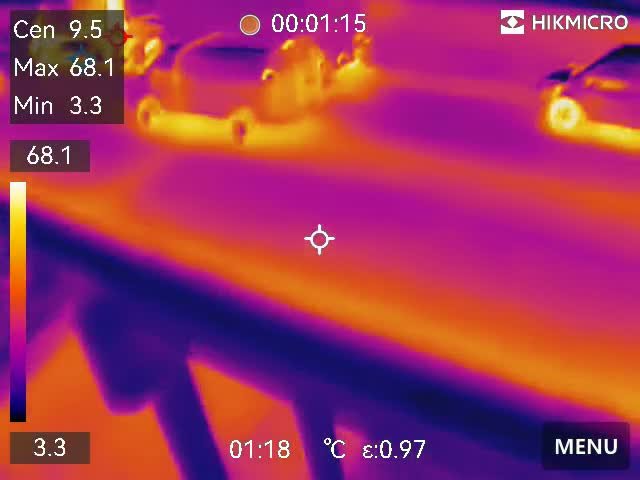lightTruck: (131, 33, 329, 153)
